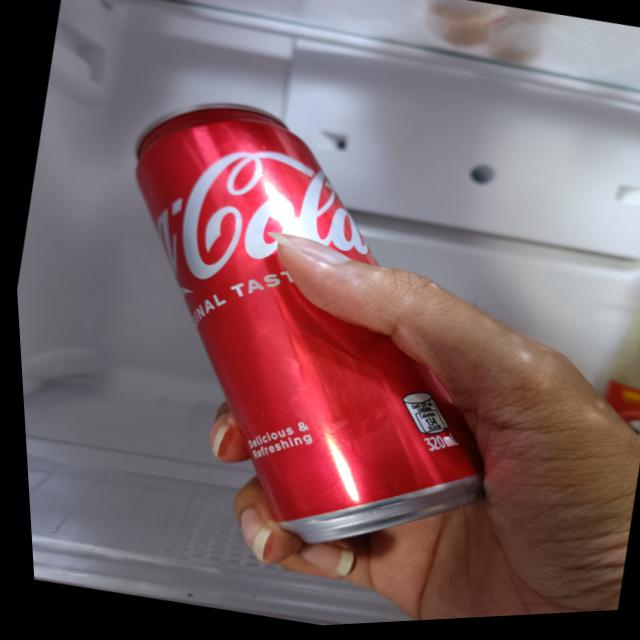coke: (54, 69, 552, 571)
